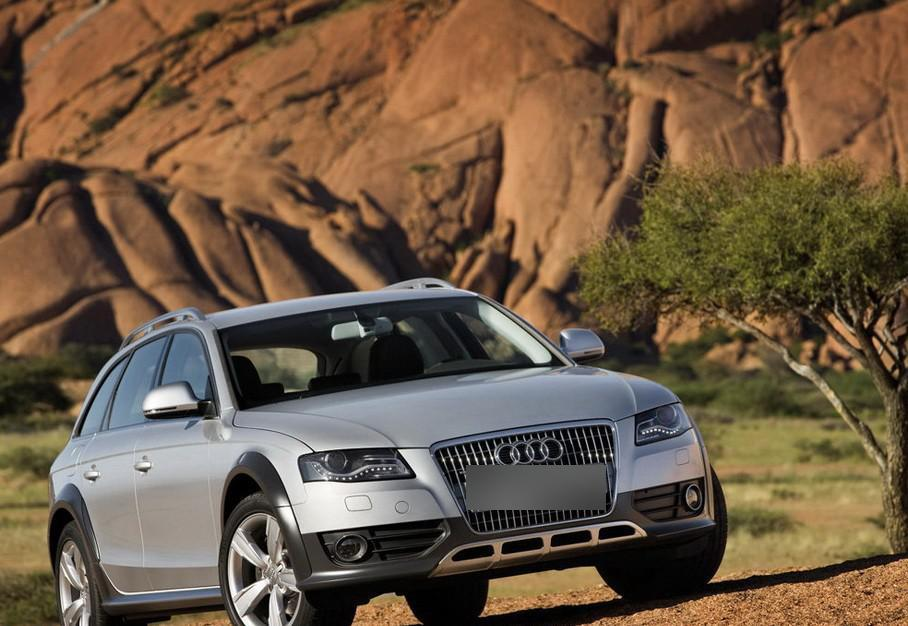Wagon: (45, 274, 729, 626)
